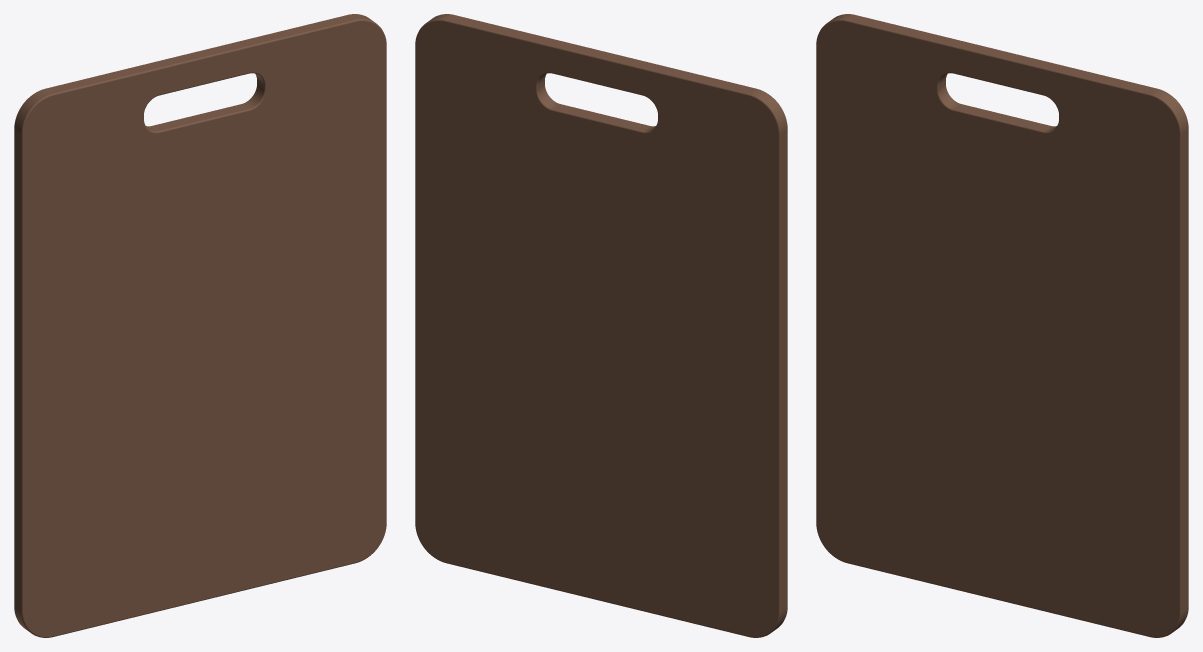
File: wooden board.fbx
3 renders of one model, left to right at view 1: azimuth 30°, elevation 25°; view 2: azimuth 150°, elevation 25°; view 3: azimuth 330°, elevation 25°, orthographic.
Visible parts, largest first — view 1: wooden board; view 2: wooden board; view 3: wooden board.
Part boxes in pixels (left/top/right/bottom): wooden board: left=14, top=14, right=386, bottom=637; wooden board: left=415, top=14, right=787, bottom=637; wooden board: left=816, top=14, right=1188, bottom=637.
Bounding box in the file's own units: 405 × 576 × 16.18.
